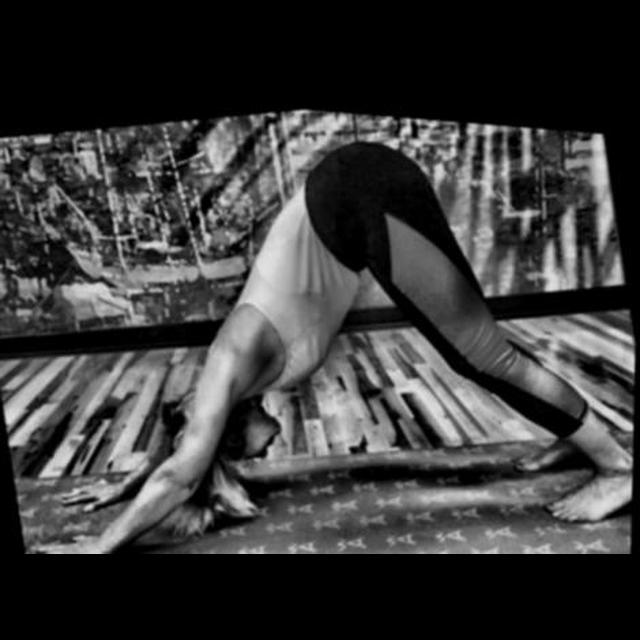Downward-Facing_Dog: (54, 138, 640, 558)
